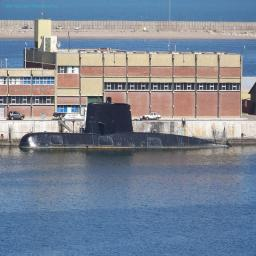submarine: (23, 104, 232, 149)
